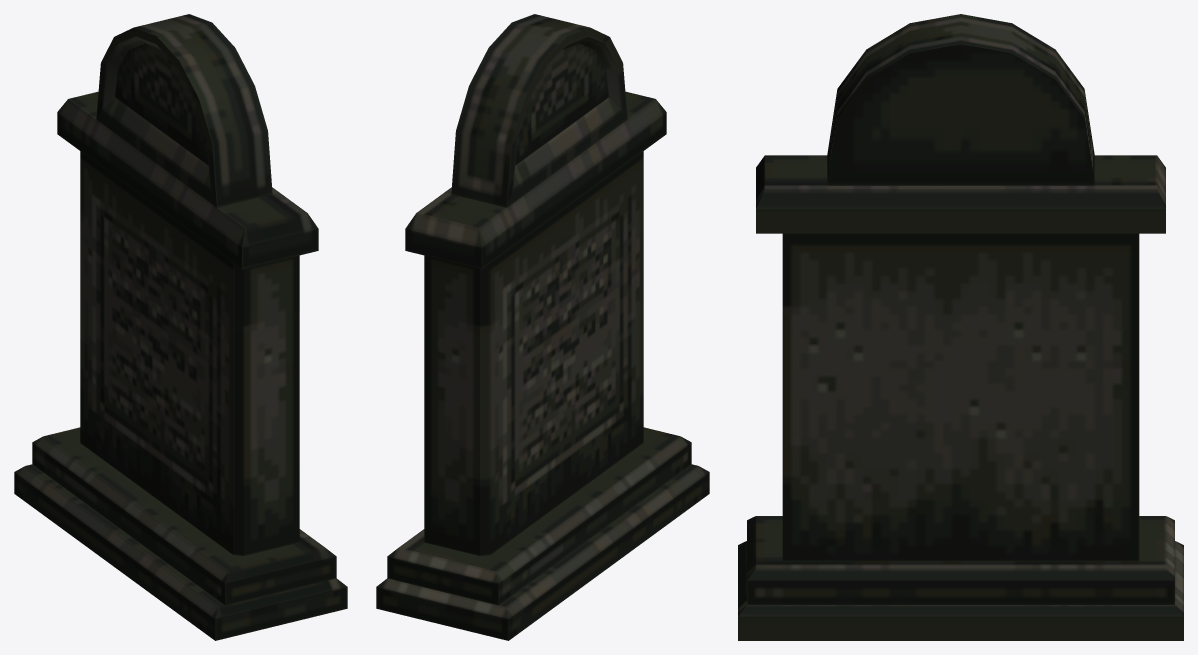
File: EnvObjMD_Cemetery_D_Shape_L.FBX
3 renders of one model, left to right at view 1: azimuth 30°, elevation 25°; view 2: azimuth 150°, elevation 25°; view 3: azimuth 270°, elevation 25°, orthographic. The views are drawn at different scales.
Parts seen in each view (by area): view 1: EnvObjMD_Cemetery_D_Shape_L; view 2: EnvObjMD_Cemetery_D_Shape_L; view 3: EnvObjMD_Cemetery_D_Shape_L.
Part boxes in pixels (bbox=[...]): EnvObjMD_Cemetery_D_Shape_L: bbox=[14, 14, 347, 640]; EnvObjMD_Cemetery_D_Shape_L: bbox=[376, 14, 709, 640]; EnvObjMD_Cemetery_D_Shape_L: bbox=[738, 14, 1183, 640].
Bounding box in the file's own units: 95 × 358 × 250.
Materials: 1 (1 with a texture image).
